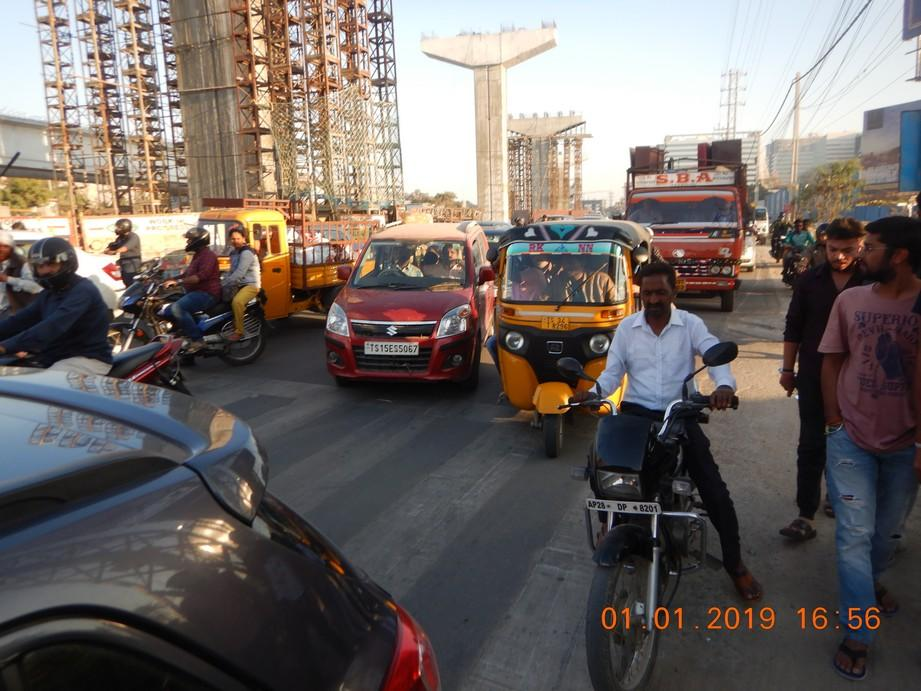plate: (585, 498, 662, 515)
